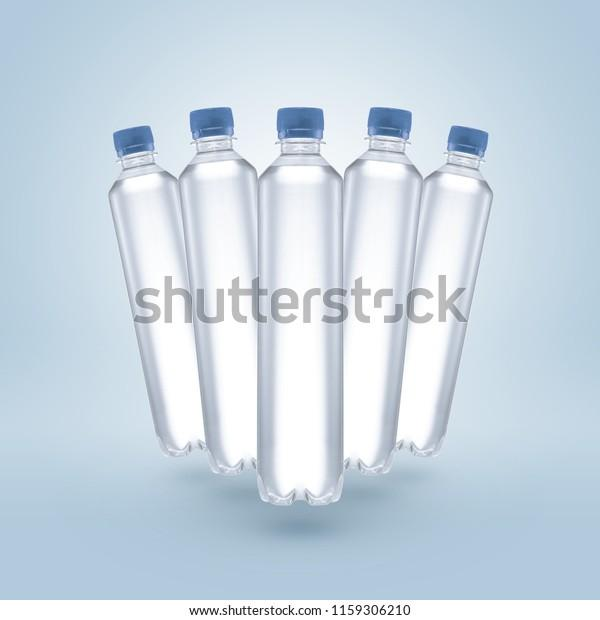bottle: (239, 96, 364, 518), (310, 95, 445, 484), (166, 97, 296, 485), (96, 113, 237, 462), (382, 114, 500, 470)
